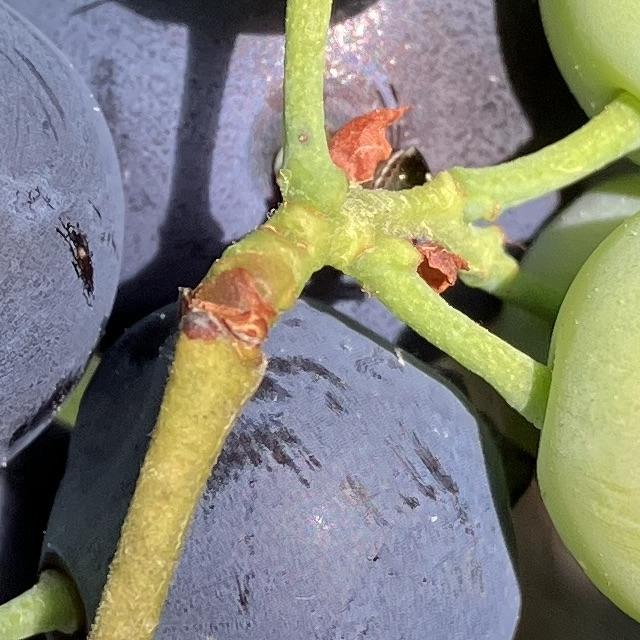Blueberries: (513, 154, 640, 640)
